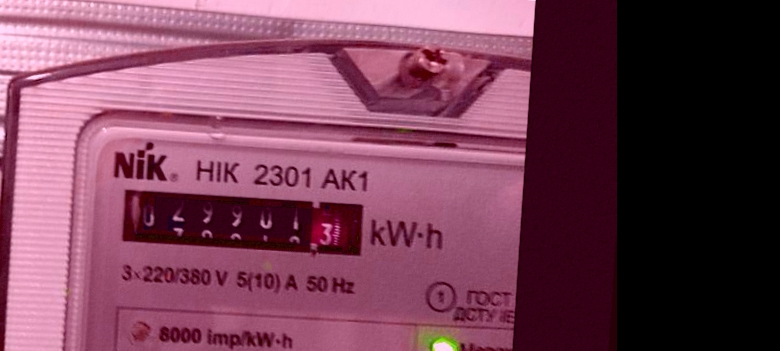0: (138, 200, 158, 228), (257, 202, 275, 232)
1: (288, 203, 303, 232)
2: (169, 196, 188, 224)
3: (317, 220, 335, 247)
9: (199, 198, 216, 226), (230, 201, 244, 229)
screen: (112, 179, 376, 268)
